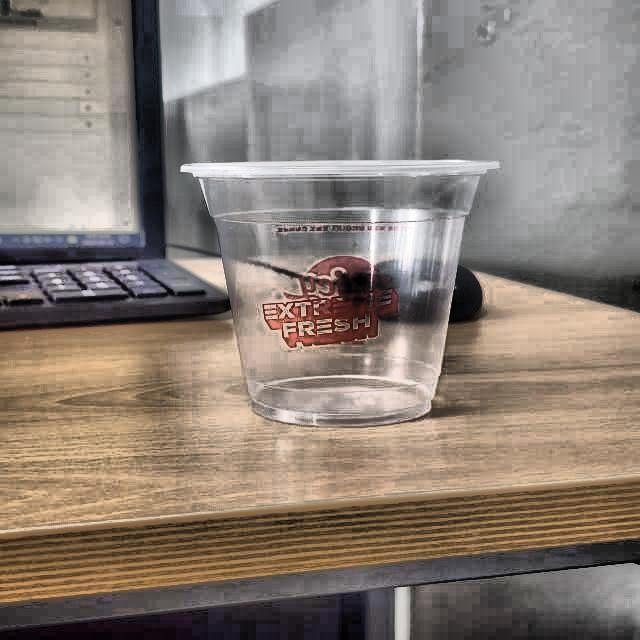plastic cup: (179, 158, 500, 426)
